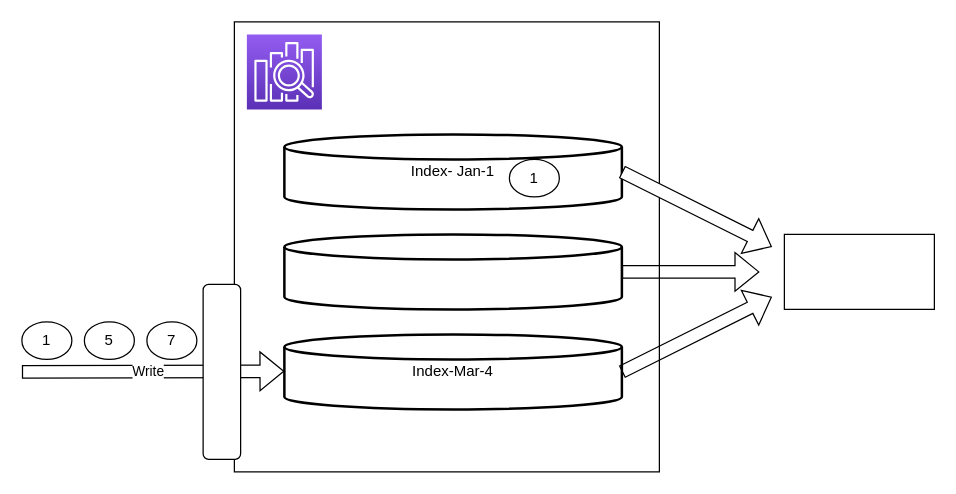
This 956x494 diagram has some shape labels left out. Each missing label, with the centre of its shape:
g2s2: write index create date: the point at 221,371
Index-Feb-2: the point at 452,271
Query: the point at 858,271
